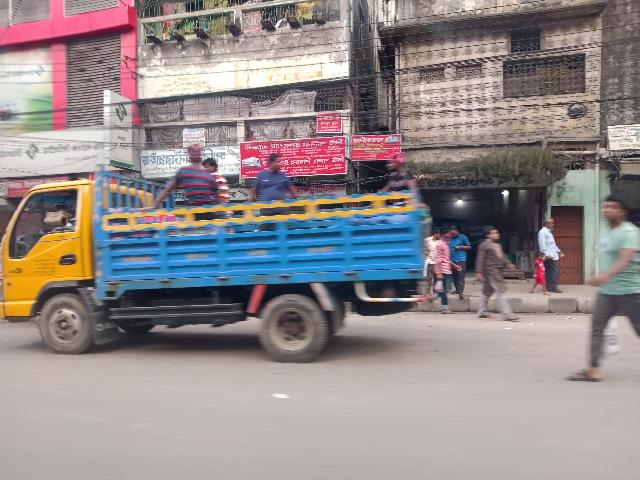truck: (0, 179, 432, 368)
